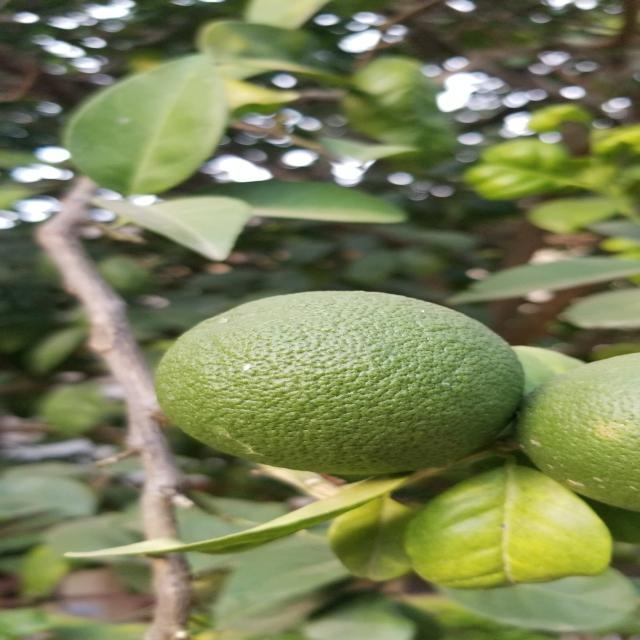agrume: (144, 283, 519, 480), (516, 346, 640, 519)
